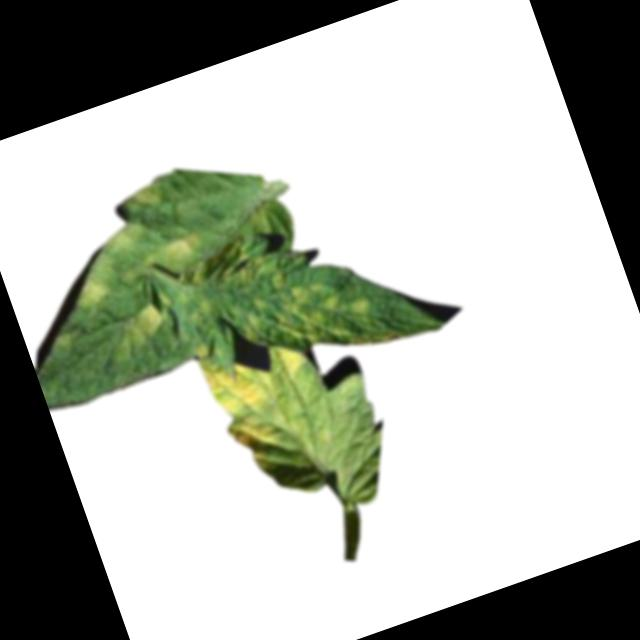Leaf_Mold: (212, 224, 396, 391), (192, 329, 336, 479), (106, 295, 174, 361), (65, 252, 123, 314), (148, 228, 207, 274), (119, 176, 171, 222), (191, 344, 214, 364)
